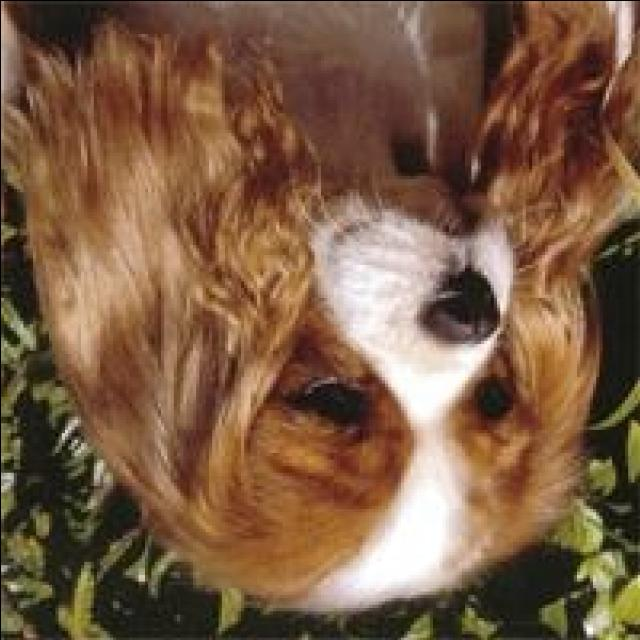blenheim_spaniel: (12, 4, 634, 624)
